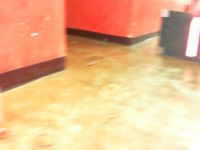switch: (184, 16, 199, 58)
